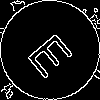E: (25, 25, 82, 80)
